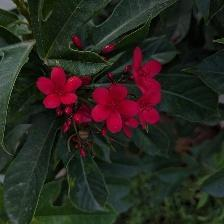jatropha: (35, 66, 86, 111), (91, 83, 139, 129), (129, 43, 163, 93), (138, 93, 165, 129)
